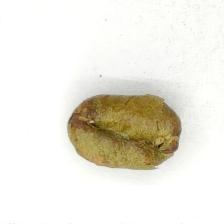NG: (69, 95, 181, 170)
